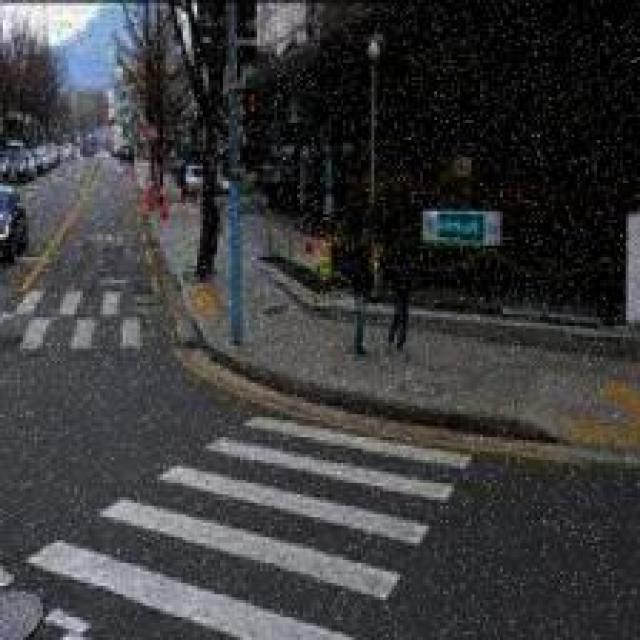zebra: (0, 412, 489, 637), (0, 286, 177, 366)
